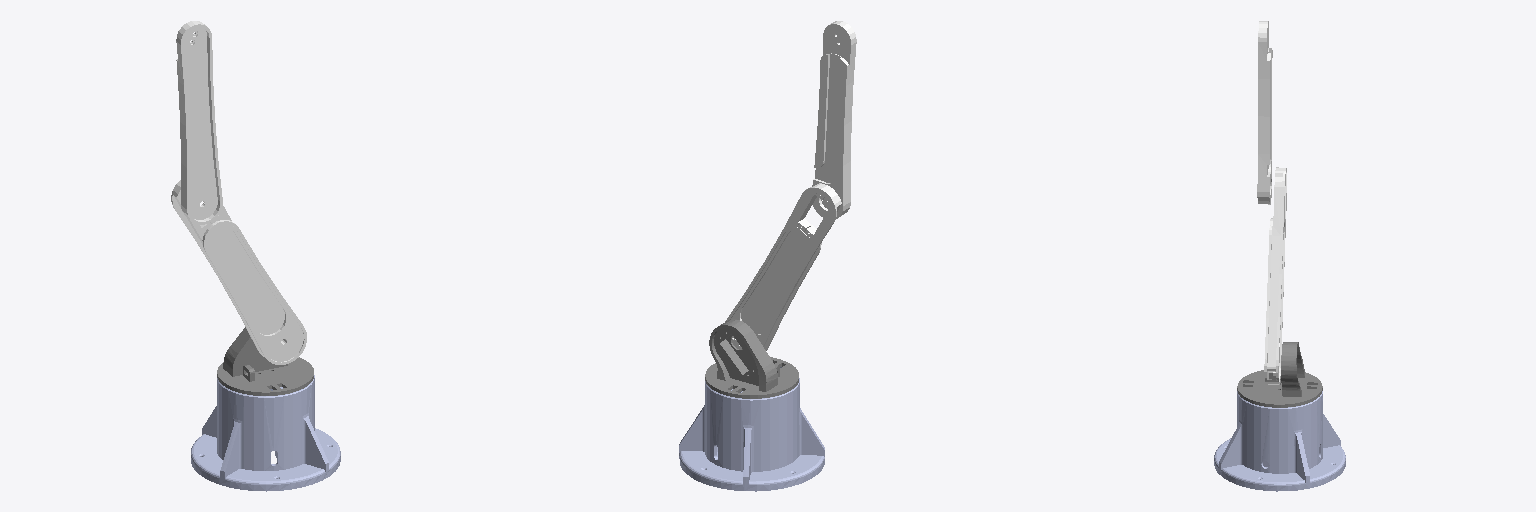
URDF robot description (Robot Arm assembly):
<?xml version="1.0" encoding="utf-8"?>
<!-- This URDF was automatically created by SolidWorks to URDF Exporter! Originally created by [author] ([email redacted]) 
     Commit Version: 1.6.0-4-g7f85cfe  Build Version: 1.6.7995.38578
     For more information, please see http://wiki.ros.org/sw_urdf_exporter -->
<robot
  name="Robot Arm assembly">
  <link
    name="base_link">
    <inertial>
      <origin
        xyz="0.033357 -0.093799 0.44593"
        rpy="0 0 0" />
      <mass
        value="0.2982" />
      <inertia
        ixx="0.00058151"
        ixy="7.0283E-06"
        ixz="-1.517E-05"
        iyy="0.00077325"
        iyz="2.5207E-06"
        izz="0.00061679" />
    </inertial>
    <visual>
      <origin
        xyz="0 0 0"
        rpy="0 0 0" />
      <geometry>
        <mesh
          filename="package://Robot Arm assembly/meshes/base_link.STL" />
      </geometry>
      <material
        name="">
        <color
          rgba="0.79216 0.81961 0.93333 1" />
      </material>
    </visual>
    <collision>
      <origin
        xyz="0 0 0"
        rpy="0 0 0" />
      <geometry>
        <mesh
          filename="package://Robot Arm assembly/meshes/base_link.STL" />
      </geometry>
    </collision>
  </link>
  <link
    name="link1">
    <inertial>
      <origin
        xyz="-0.0065518 -0.012256 -0.0014952"
        rpy="0 0 0" />
      <mass
        value="0.066963" />
      <inertia
        ixx="5.7822E-05"
        ixy="5.0698E-06"
        ixz="-5.9257E-07"
        iyy="5.3011E-05"
        iyz="6.1434E-06"
        izz="4.3186E-05" />
    </inertial>
    <visual>
      <origin
        xyz="0 0 0"
        rpy="0 0 0" />
      <geometry>
        <mesh
          filename="package://Robot Arm assembly/meshes/link1.STL" />
      </geometry>
      <material
        name="">
        <color
          rgba="0.6 0.6 0.6 1" />
      </material>
    </visual>
    <collision>
      <origin
        xyz="0 0 0"
        rpy="0 0 0" />
      <geometry>
        <mesh
          filename="package://Robot Arm assembly/meshes/link1.STL" />
      </geometry>
    </collision>
  </link>
  <joint
    name="joint1"
    type="revolute">
    <origin
      xyz="0.030623 -0.44488 0"
      rpy="1.5708 0 -1.6427" />
    <parent
      link="base_link" />
    <child
      link="link1" />
    <axis
      xyz="0 1 0" />
    <limit
      lower="0"
      upper="3.14"
      effort="300"
      velocity="3" />
  </joint>
  <link
    name="link2">
    <inertial>
      <origin
        xyz="-0.0066694 0.00042674 -0.090662"
        rpy="0 0 0" />
      <mass
        value="0.076981" />
      <inertia
        ixx="0.00038244"
        ixy="-1.2261E-08"
        ixz="3.8433E-06"
        iyy="0.0003715"
        iyz="1.5375E-06"
        izz="1.3017E-05" />
    </inertial>
    <visual>
      <origin
        xyz="0 0 0"
        rpy="0 0 0" />
      <geometry>
        <mesh
          filename="package://Robot Arm assembly/meshes/link2.STL" />
      </geometry>
      <material
        name="">
        <color
          rgba="1 1 1 1" />
      </material>
    </visual>
    <collision>
      <origin
        xyz="0 0 0"
        rpy="0 0 0" />
      <geometry>
        <mesh
          filename="package://Robot Arm assembly/meshes/link2.STL" />
      </geometry>
    </collision>
  </link>
  <joint
    name="joint2"
    type="revolute">
    <origin
      xyz="0 0.010456 -0.013919"
      rpy="-2.0712 0 3.1416" />
    <parent
      link="link1" />
    <child
      link="link2" />
    <axis
      xyz="1 0 0" />
    <limit
      lower="0"
      upper="3.14"
      effort="300"
      velocity="3" />
  </joint>
  <link
    name="link3">
    <inertial>
      <origin
        xyz="-0.0056669 -0.00012966 -0.083478"
        rpy="0 0 0" />
      <mass
        value="0.05783" />
      <inertia
        ixx="0.00022798"
        ixy="3.1723E-08"
        ixz="-1.2351E-06"
        iyy="0.00022138"
        iyz="3.7222E-07"
        izz="7.7215E-06" />
    </inertial>
    <visual>
      <origin
        xyz="0 0 0"
        rpy="0 0 0" />
      <geometry>
        <mesh
          filename="package://Robot Arm assembly/meshes/link3.STL" />
      </geometry>
      <material
        name="">
        <color
          rgba="1 1 1 1" />
      </material>
    </visual>
    <collision>
      <origin
        xyz="0 0 0"
        rpy="0 0 0" />
      <geometry>
        <mesh
          filename="package://Robot Arm assembly/meshes/link3.STL" />
      </geometry>
    </collision>
  </link>
  <joint
    name="joint3"
    type="revolute">
    <origin
      xyz="-0.016272 0 -0.2"
      rpy="0.44908 0 0" />
    <parent
      link="link2" />
    <child
      link="link3" />
    <axis
      xyz="1 0 0" />
    <limit
      lower="0"
      upper="3.14"
      effort="300"
      velocity="3" />
  </joint>
</robot>

--- What the picture shows (computed from the rendered views, not written in the file) ---
Views: 3 orthographic renders of the robot side by side, from view 1: azimuth 30°, elevation 25°; view 2: azimuth 150°, elevation 25°; view 3: azimuth 270°, elevation 25°.
Robot: Robot Arm assembly — 4 links, 3 joints (3 revolute); root link base_link; default pose: all joints at 0.
Links seen in each view (by area): view 1: base_link, link2, link3, link1; view 2: base_link, link2, link3, link1; view 3: base_link, link2, link1, link3.
Link boxes in pixels (<box>): base_link: <box>191,375,340,491</box>; link2: <box>171,180,306,364</box>; link3: <box>176,21,222,224</box>; link1: <box>217,327,313,395</box>; base_link: <box>679,367,824,491</box>; link2: <box>725,183,841,350</box>; link3: <box>812,21,856,218</box>; link1: <box>705,319,798,398</box>; base_link: <box>1214,391,1345,491</box>; link2: <box>1264,167,1286,384</box>; link1: <box>1237,342,1322,407</box>; link3: <box>1257,21,1272,204</box>.
Size in the robot's own frame: 0.1858 by 0.15 by 0.5106 metres.
Meshes: 4 distinct files referenced, 4 mesh visuals loaded (4 binary STL).